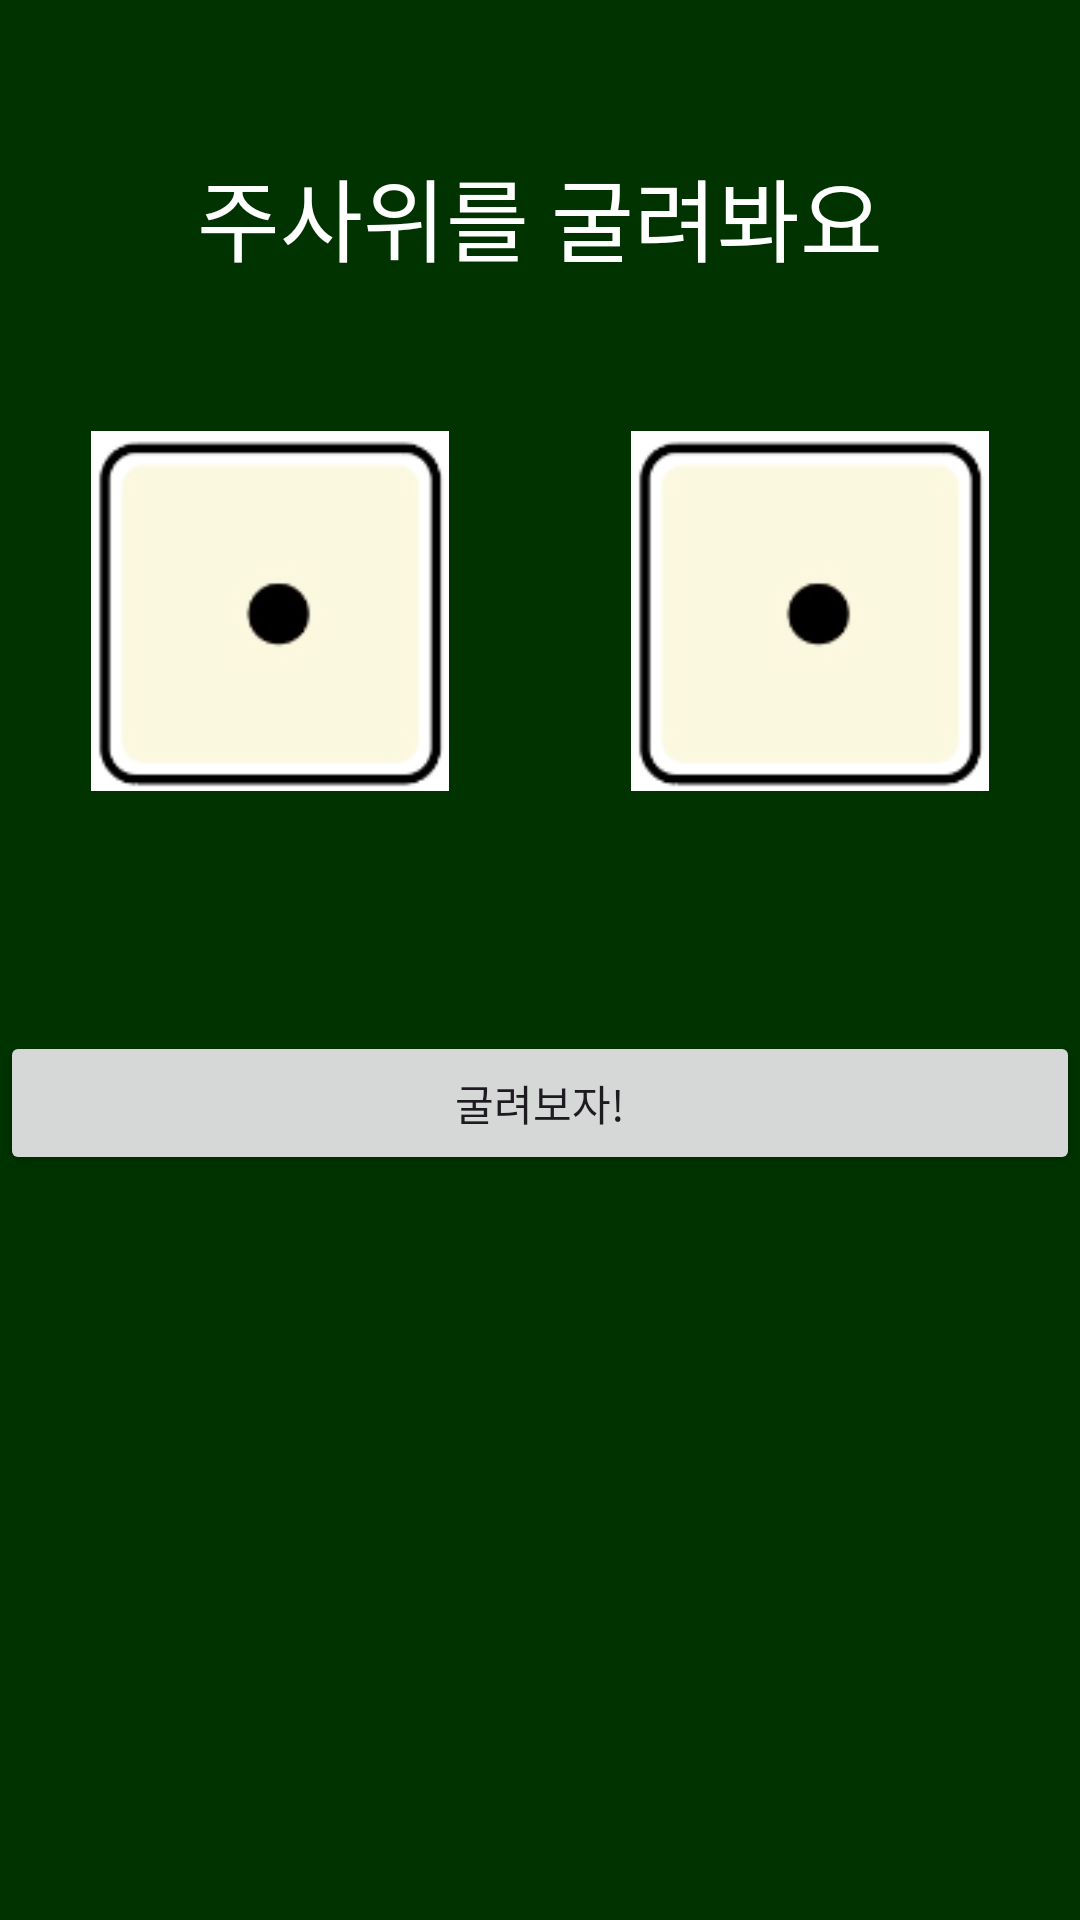

Icon bounding boxes for this 1080 x 1920 phone screenshot, format box(x1, y1, x2, y2):
dice: box(91, 431, 449, 791), box(631, 431, 989, 791)
